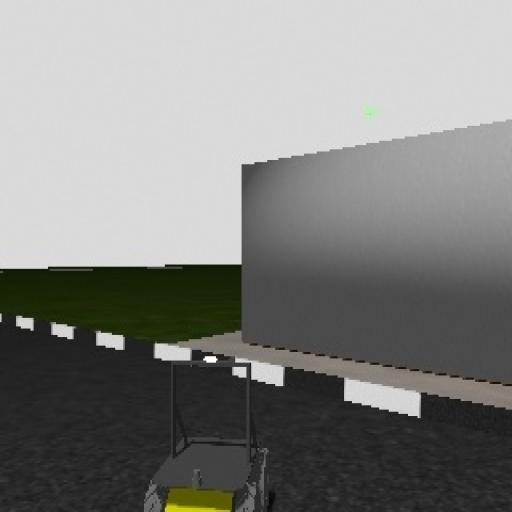huskya200: (142, 339, 274, 512)
